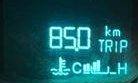-: (74, 45, 79, 53)
0: (77, 24, 90, 49)
5: (62, 24, 76, 48)
8: (47, 24, 62, 49)
X: (116, 60, 127, 74), (71, 60, 81, 75), (118, 37, 127, 52), (104, 38, 112, 53), (96, 37, 103, 52), (103, 24, 111, 36), (112, 27, 120, 36), (113, 38, 118, 52)
